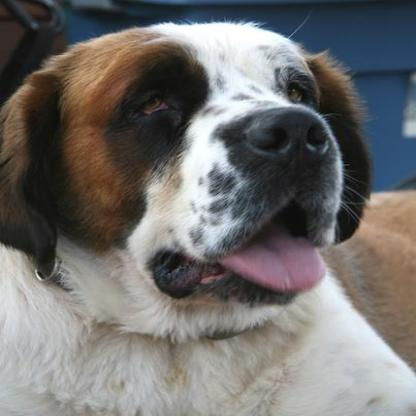Saint_Bernard: (0, 14, 409, 414)
